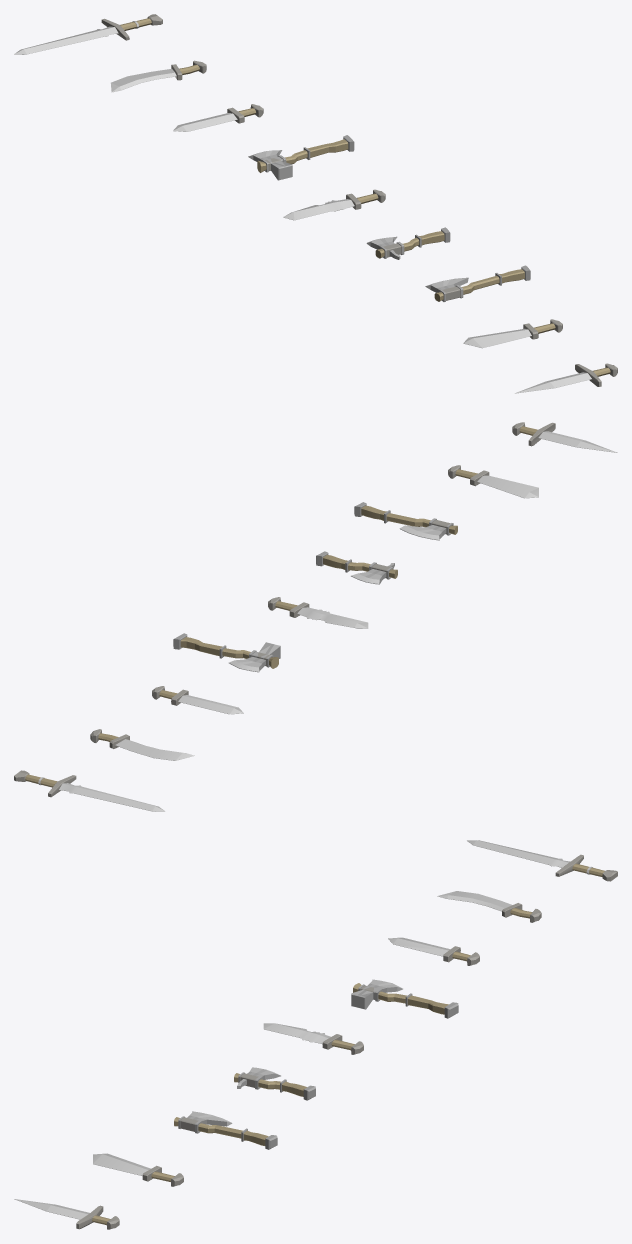
File: weapon.fbx
The picture shows the model from 3 angles, top to bottom: view 1: azimuth 30°, elevation 25°; view 2: azimuth 150°, elevation 25°; view 3: azimuth 330°, elevation 25°; orthographic projection.
Visible parts, largest first — view 1: ax_molot, bix_ax, sword, ax, kukri, zub_kukri, sable, small_sword, gladius; view 2: ax_molot, bix_ax, sword, ax, kukri, zub_kukri, sable, small_sword, gladius; view 3: ax_molot, bix_ax, sword, ax, kukri, zub_kukri, sable, small_sword, gladius.
Part boxes in pixels (box(x1,y1,x2,y2)): ax_molot: box(248, 135, 354, 180); bix_ax: box(425, 265, 530, 301); sword: box(14, 14, 162, 54); ax: box(366, 227, 450, 259); kukri: box(463, 319, 562, 348); zub_kukri: box(283, 189, 385, 220); sable: box(111, 60, 206, 92); small_sword: box(514, 363, 617, 393); gladius: box(173, 104, 263, 131); ax_molot: box(173, 633, 280, 672); bix_ax: box(354, 502, 457, 540); sword: box(14, 770, 164, 811); ax: box(316, 551, 397, 584); kukri: box(448, 465, 538, 498); zub_kukri: box(268, 597, 368, 628); sable: box(90, 729, 194, 760); small_sword: box(512, 422, 617, 452); gladius: box(152, 686, 243, 714); ax_molot: box(351, 979, 458, 1018); bix_ax: box(174, 1111, 277, 1149); sword: box(467, 840, 617, 881); ax: box(234, 1067, 315, 1100); kukri: box(93, 1153, 183, 1186); zub_kukri: box(263, 1023, 363, 1054); sable: box(437, 891, 541, 922); small_sword: box(14, 1199, 119, 1229); gladius: box(388, 937, 479, 965).
Size of the model in its own units: 800 by 58.42 by 4206.
